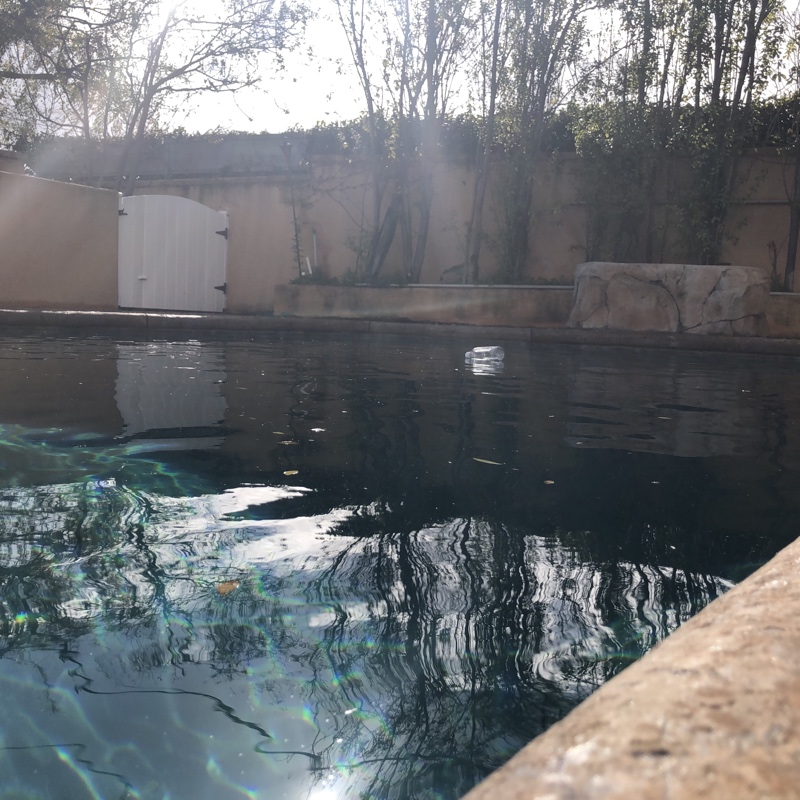Plastic Bottle: (464, 342, 503, 363)
